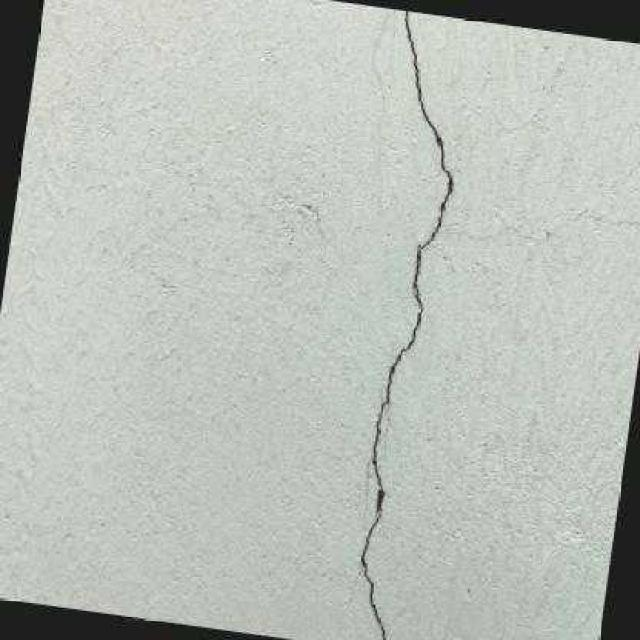D00: (357, 9, 453, 640)
